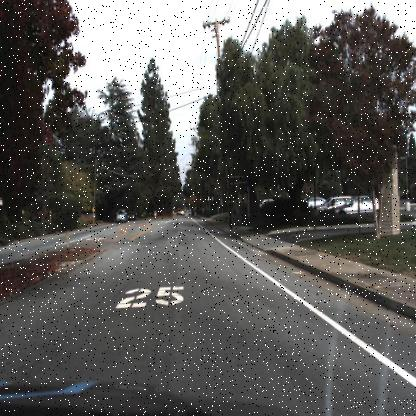car: (330, 194, 381, 218), (335, 195, 388, 214), (314, 191, 353, 211), (311, 196, 354, 214), (113, 207, 128, 225), (114, 207, 128, 225)
